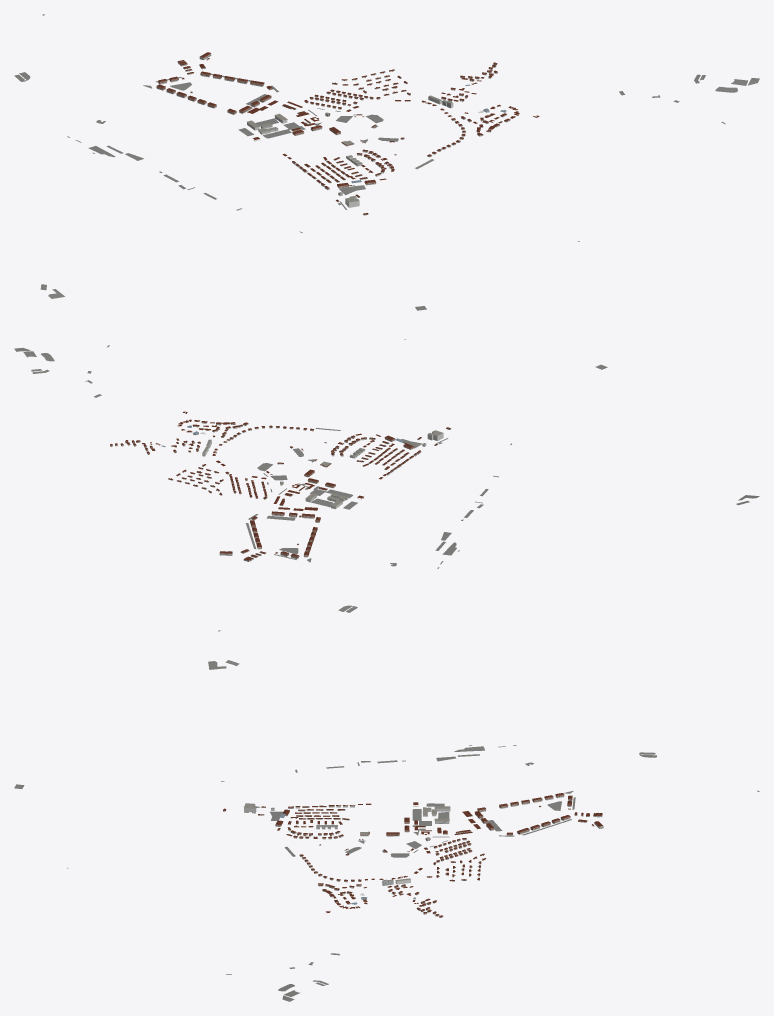
The model's file is ciudad.glb.
The picture shows the model from 3 angles, top to bottom: view 1: azimuth 30°, elevation 25°; view 2: azimuth 150°, elevation 25°; view 3: azimuth 270°, elevation 25°; orthographic projection. The views are drawn at different scales.
Bounding box in the file's own units: 4079 × 50.44 × 3721.
